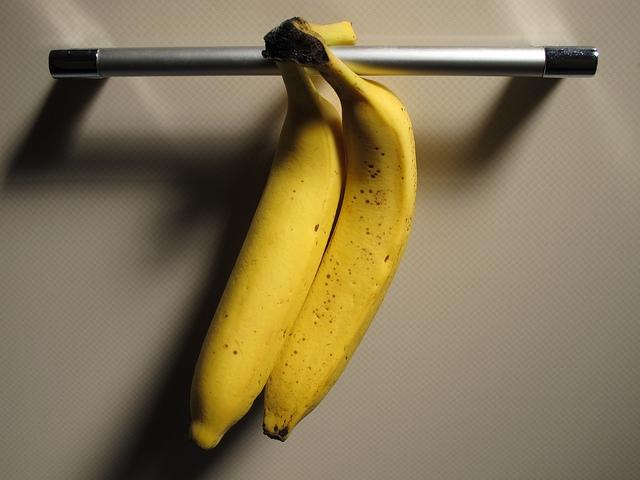banana: (261, 17, 418, 442), (190, 58, 348, 450)
